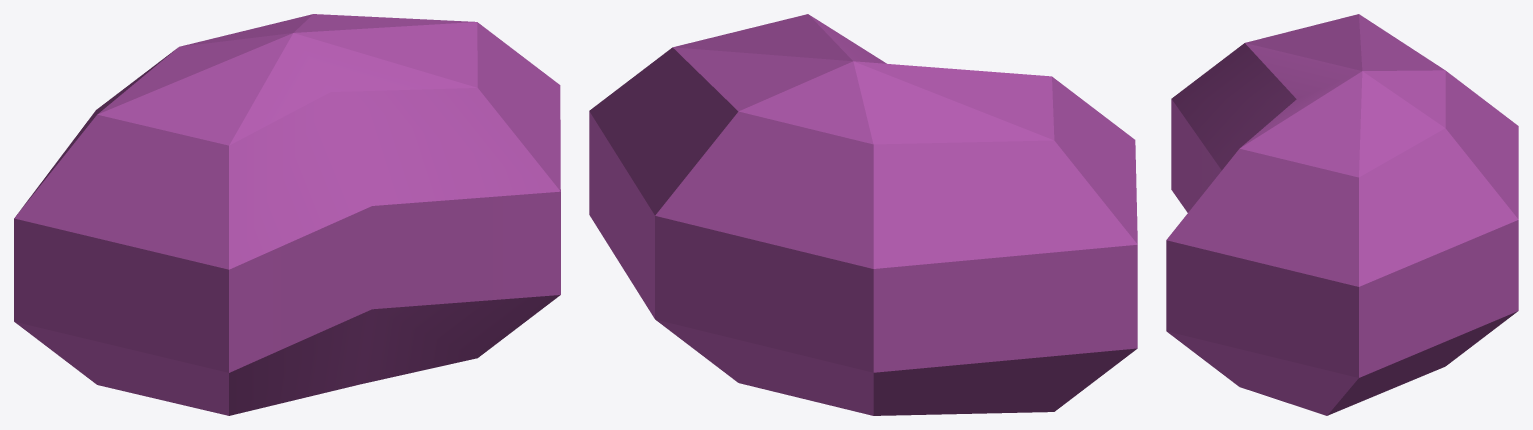
Rendered from jelly.fbx.
3 views of the same model, side by side, from view 1: azimuth 30°, elevation 25°; view 2: azimuth 150°, elevation 25°; view 3: azimuth 270°, elevation 25° (orthographic). The views are drawn at different scales.
Visible parts, largest first — view 1: pSphere1; view 2: pSphere1; view 3: pSphere1.
Part boxes in pixels (box(x1,y1,x2,y2)): pSphere1: box(14, 14, 560, 415); pSphere1: box(589, 14, 1137, 415); pSphere1: box(1166, 14, 1518, 415).
Size of the model in its own units: 275 by 161 by 175.
